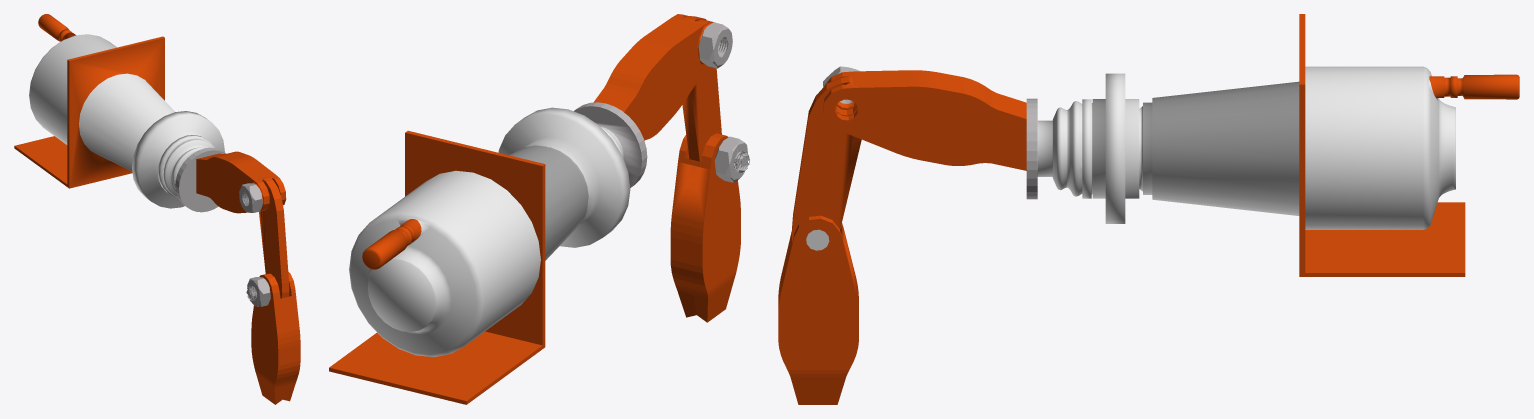
The model's file is airbrake.gltf.
3 views of the same model, side by side, from view 1: azimuth 30°, elevation 25°; view 2: azimuth 150°, elevation 25°; view 3: azimuth 270°, elevation 25° (orthographic). The views are drawn at different scales.
Visible parts, largest first — view 1: Air brake piston; view 2: Air brake piston; view 3: Air brake piston.
Boxes of the visible parts, x1=… form: Air brake piston: x1=14, y1=14, x2=300, y2=404; Air brake piston: x1=329, y1=14, x2=749, y2=404; Air brake piston: x1=778, y1=14, x2=1519, y2=404.
Bounding box in the file's own units: 0.212 × 0.4911 × 0.9414.
